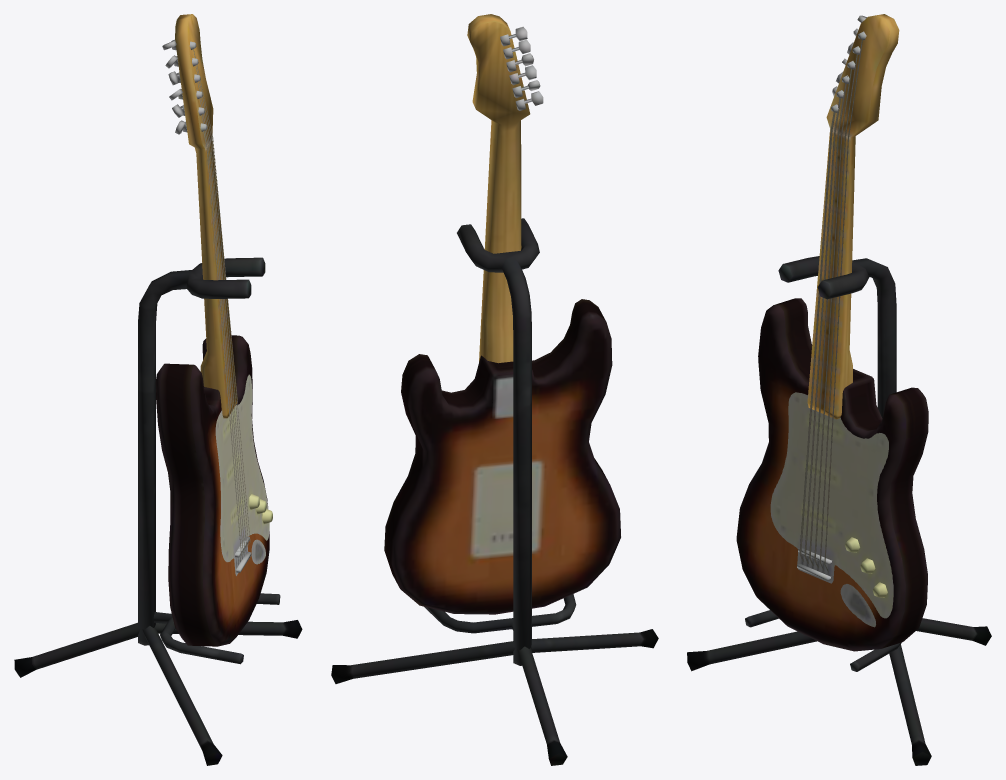
3 views of the same model, side by side, from view 1: azimuth 30°, elevation 25°; view 2: azimuth 150°, elevation 25°; view 3: azimuth 270°, elevation 25° (orthographic). The views are drawn at different scales.
Size of the model in its own units: 6.25 by 15.54 by 6.25.
3 materials, 3 textured.
